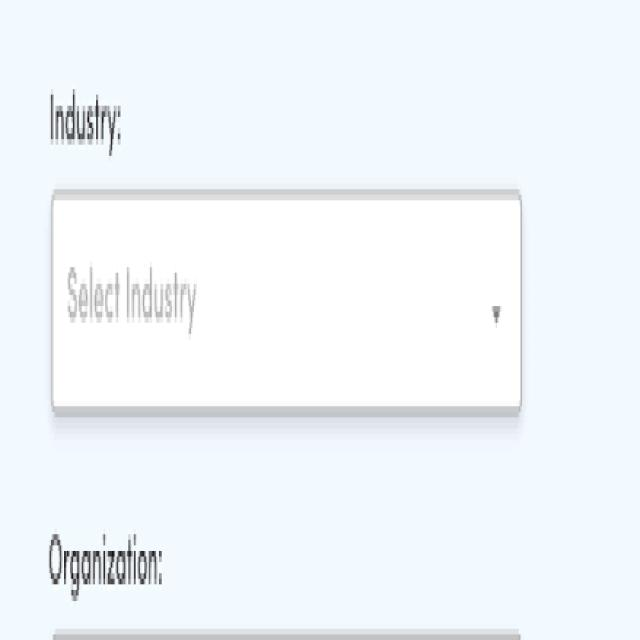input-fields: (54, 201, 522, 406)
text: (50, 535, 162, 598), (50, 88, 122, 154)
